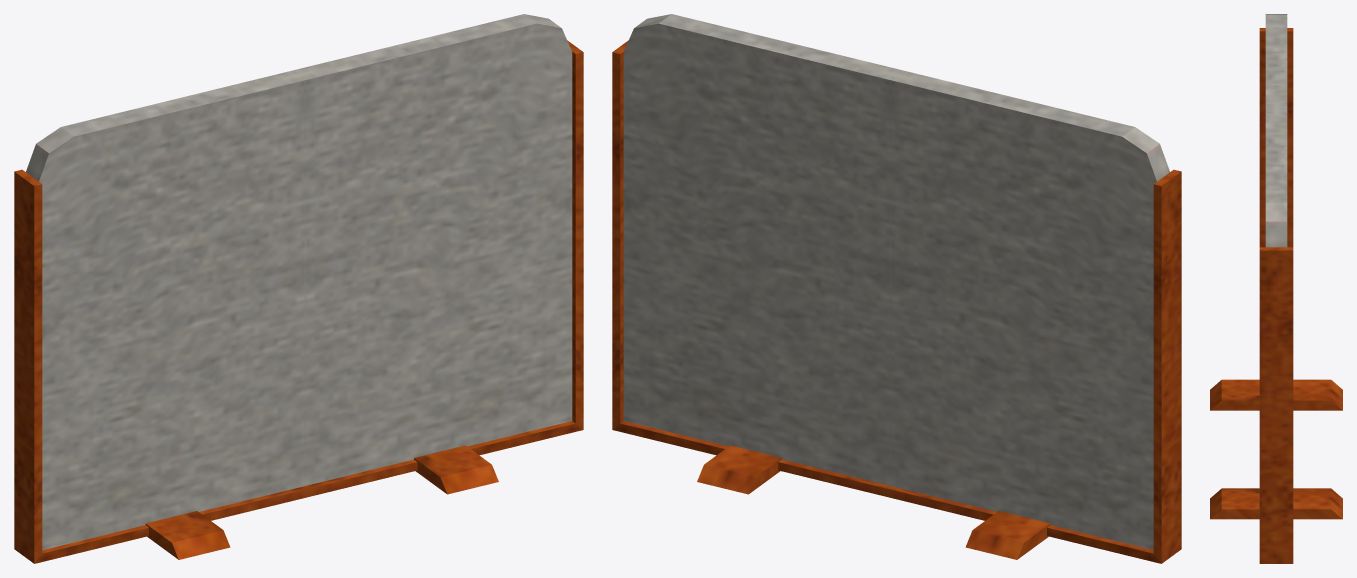
The model's file is divider_veneer_low_half.obj.
The picture shows the model from 3 angles, left to right: view 1: azimuth 30°, elevation 25°; view 2: azimuth 150°, elevation 25°; view 3: azimuth 270°, elevation 25°; orthographic projection. The views are drawn at different scales.
Visible parts, largest first — view 1: divider_veneer_low_half; view 2: divider_veneer_low_half; view 3: divider_veneer_low_half.
Part boxes in pixels (x1,y1,x2,y2): divider_veneer_low_half: (14, 14, 583, 563); divider_veneer_low_half: (612, 14, 1181, 563); divider_veneer_low_half: (1210, 14, 1342, 563).
Size of the model in its own units: 2.07 by 1.5 by 0.523.
